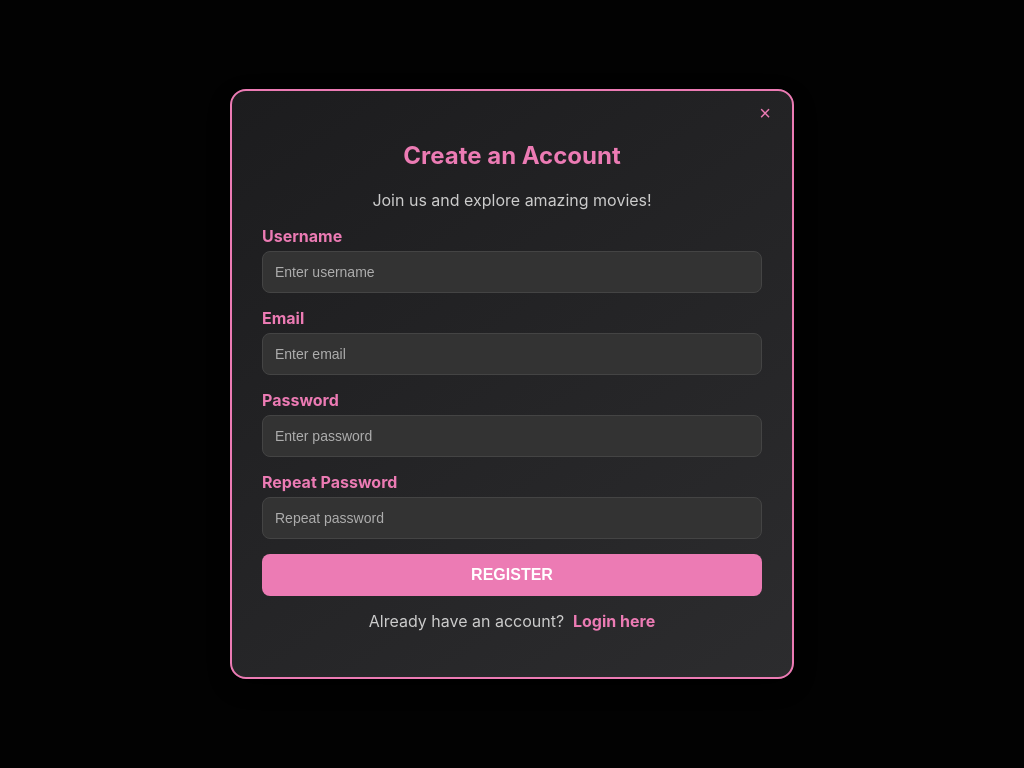
Test: Register Component › should show error if passwords do not match
Type "password123" into the password field with placeholder "Enter password".
click(512, 436); type("password123")  # box x1=262 y1=415 x2=762 y2=457
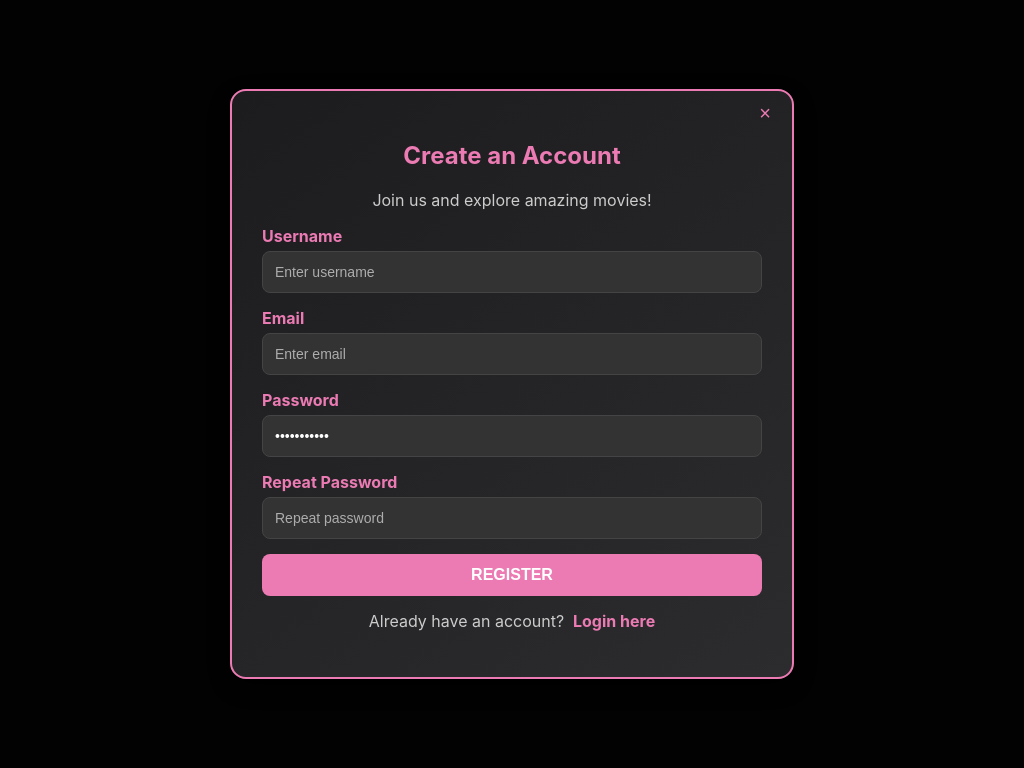
Type "password456" into the password field with placeholder "Repeat password".
click(512, 518); type("password456")  # box x1=262 y1=497 x2=762 y2=539
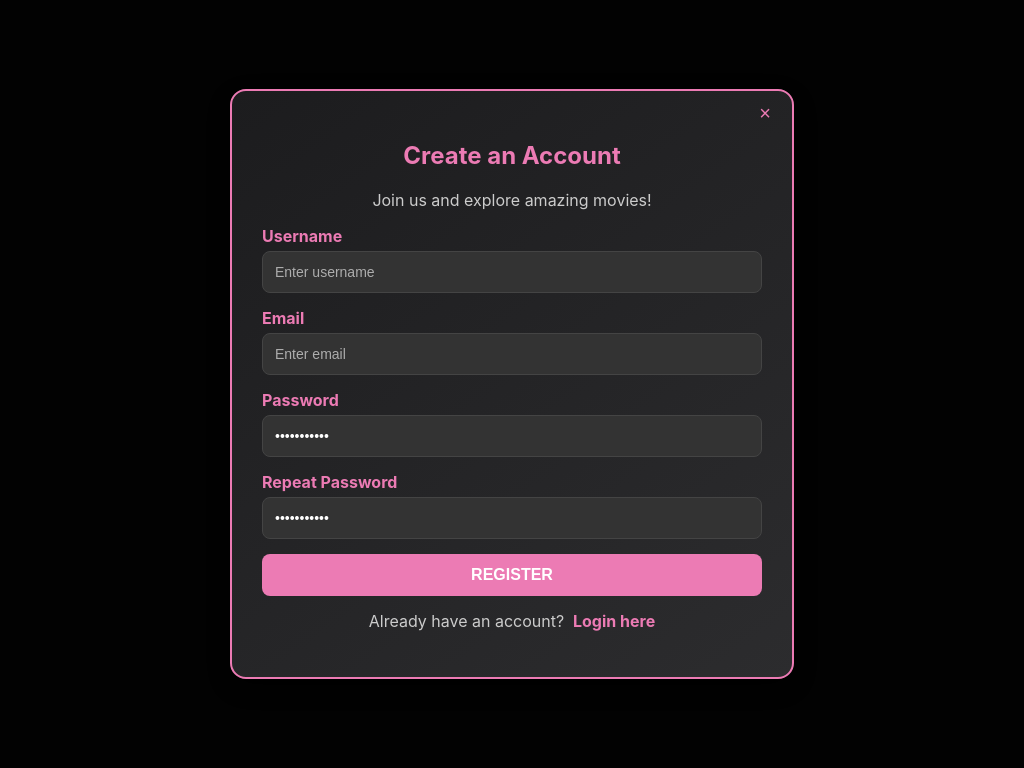
Click the button "Register".
click(512, 575)  # box x1=262 y1=554 x2=762 y2=596
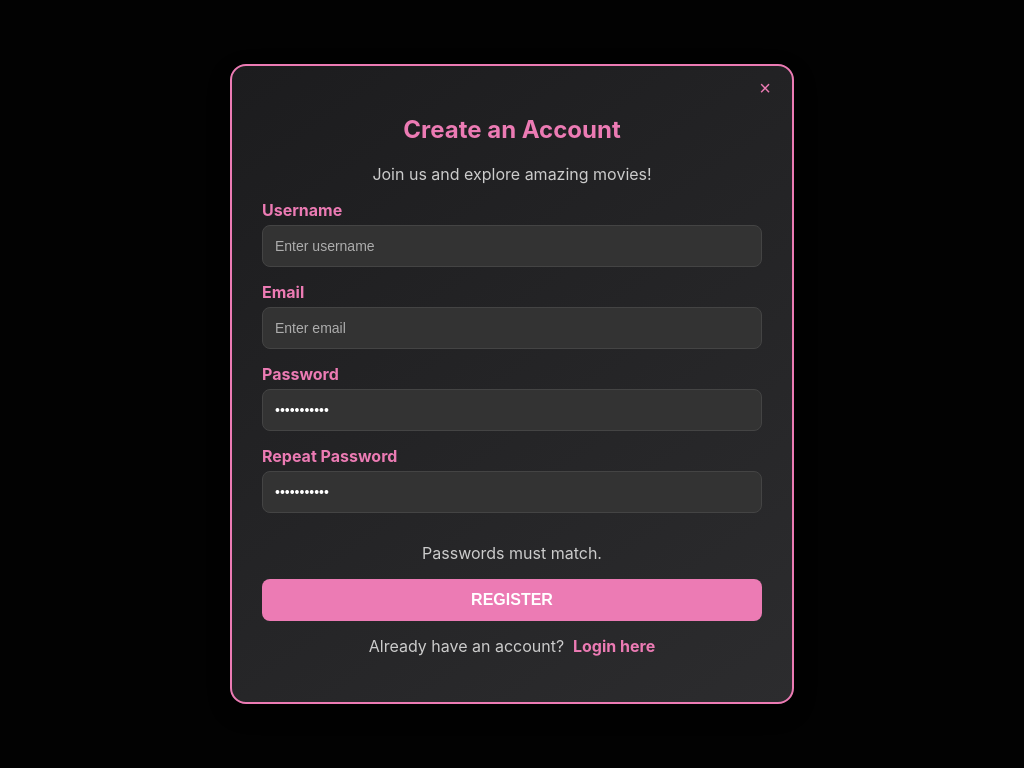
expect the text "Passwords must match." is shown: met, box x1=422 y1=544 x2=602 y2=564
